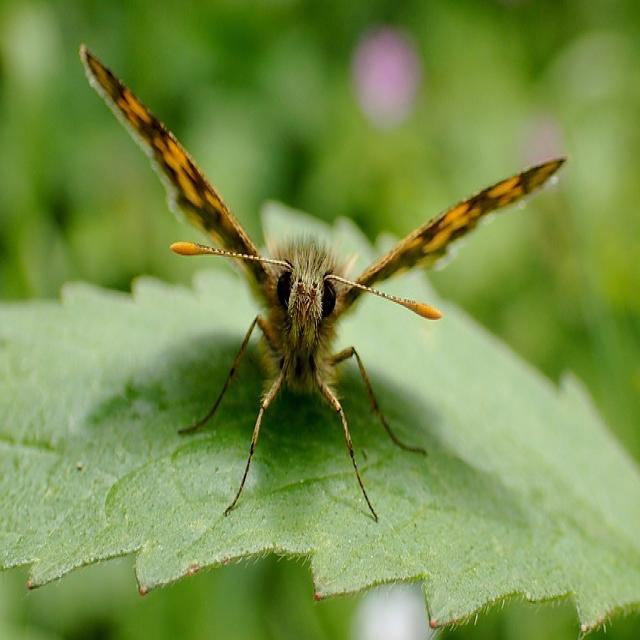butterfly: (78, 47, 564, 452)
